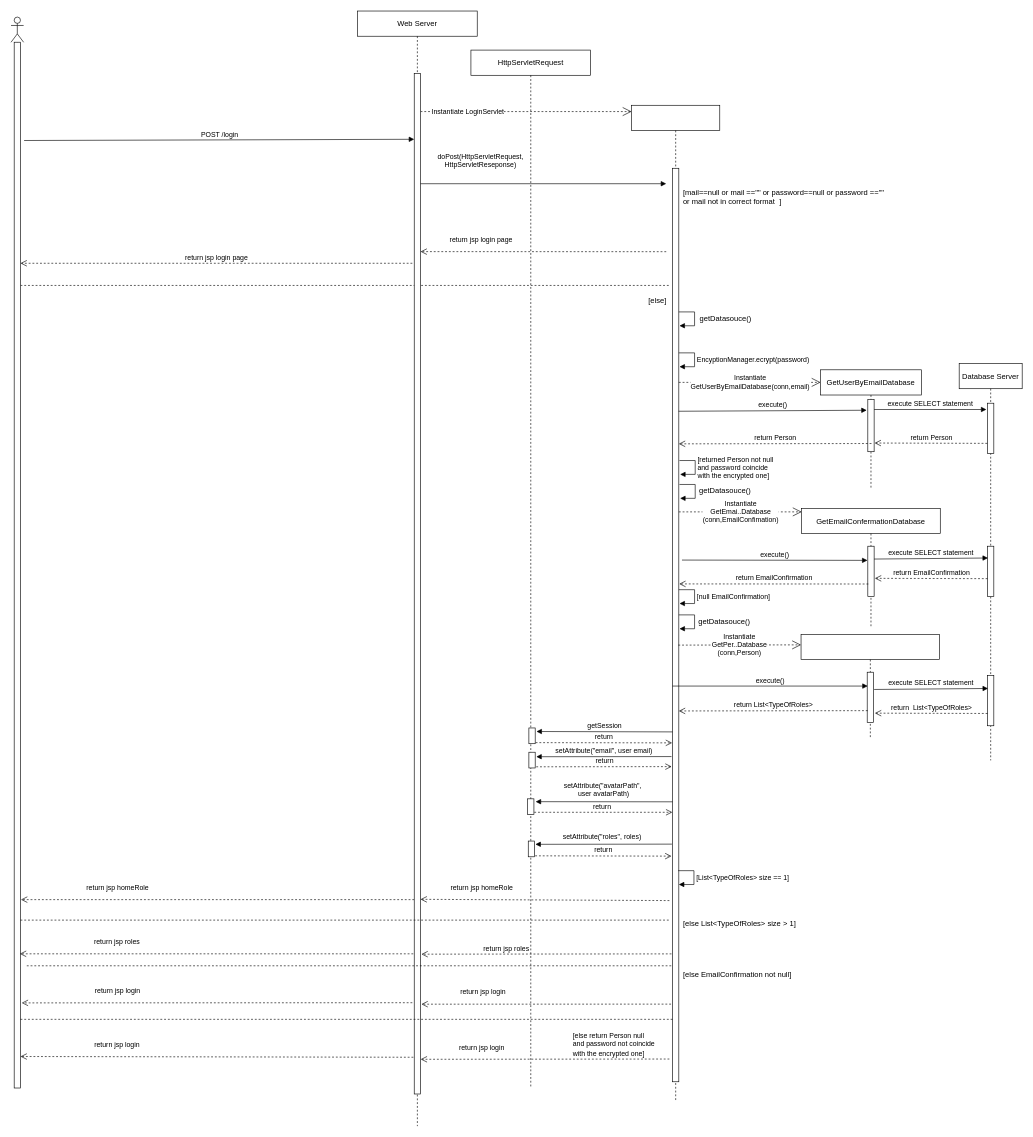
Some shapes in this 1033 by 1137 pixel diagram are drawn without their labels. The shapes that lost their labels are listed below. From the top down, each one's box as (x1, y1, x2, y2) in pixels, then its label:
(631, 105, 720, 1101): LoginServlet
(800, 634, 940, 738): GetPersonRolesDatabase
